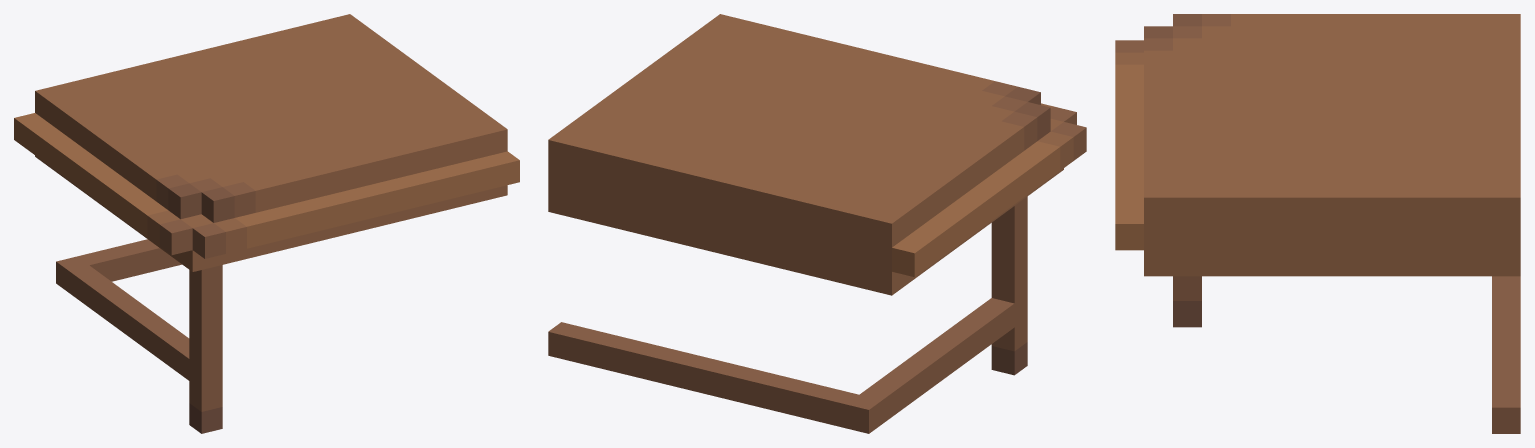
The model's file is Interior_Furniture_Table_Piece_Big_07.obj.
3 renders of one model, left to right at view 1: azimuth 30°, elevation 25°; view 2: azimuth 150°, elevation 25°; view 3: azimuth 270°, elevation 25°, orthographic. The views are drawn at different scales.
Bounding box in the file's own units: 1.6 × 1.1 × 1.4.
Materials: 1 (1 with a texture image).
